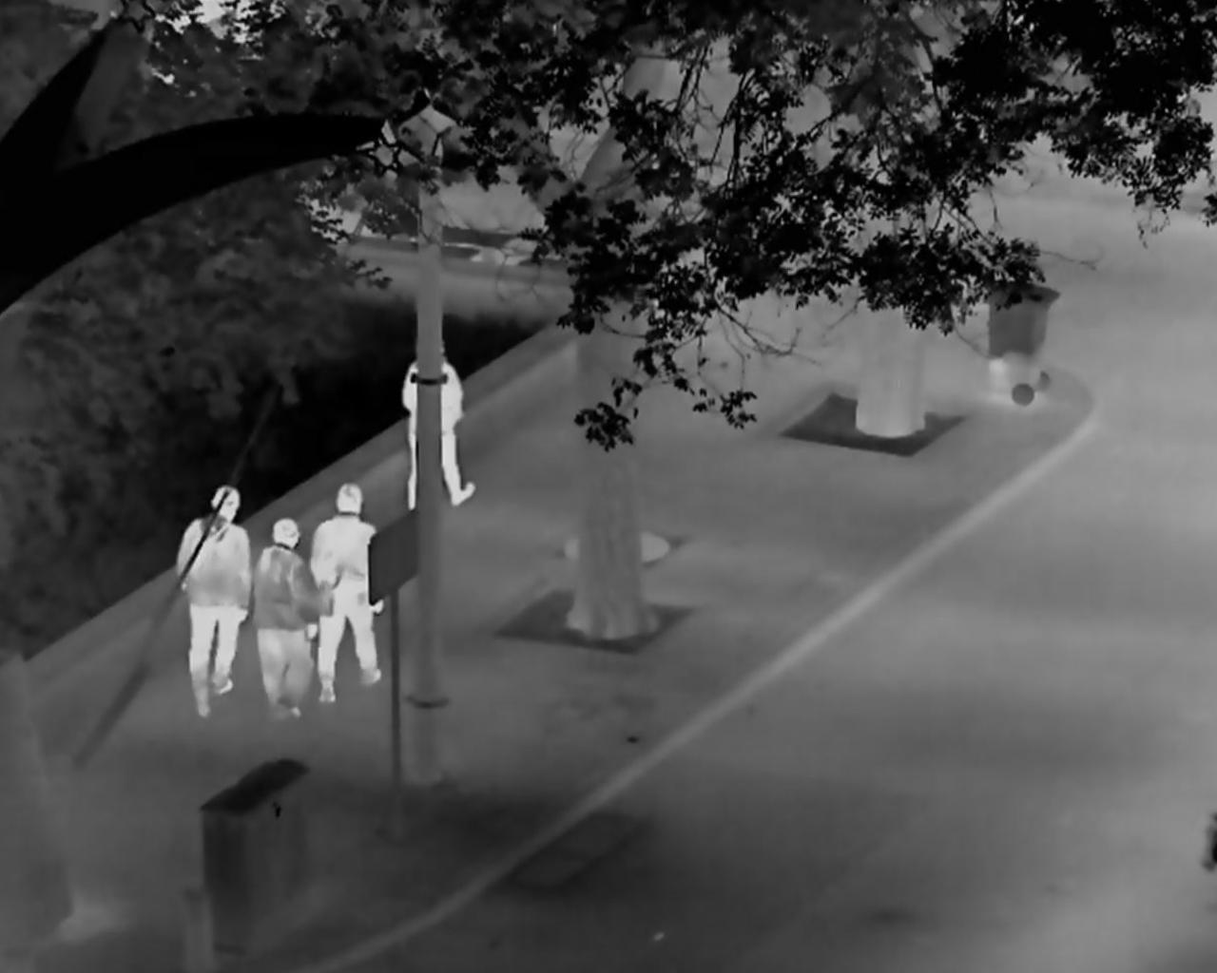person: (305, 482, 390, 705), (176, 484, 252, 718), (249, 517, 319, 724), (398, 334, 475, 511)
